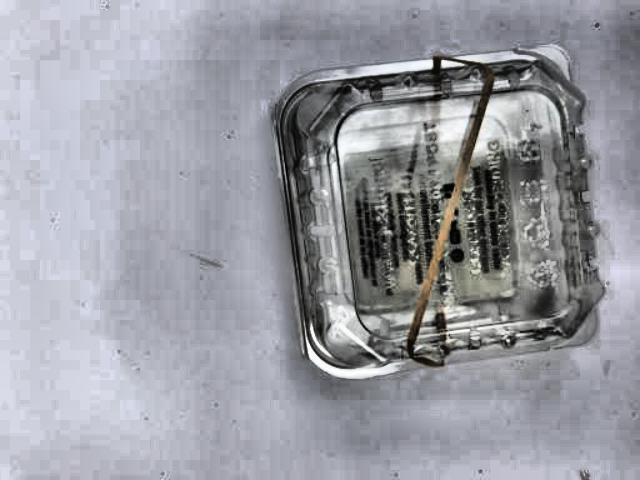Plastic: (273, 31, 623, 390)
